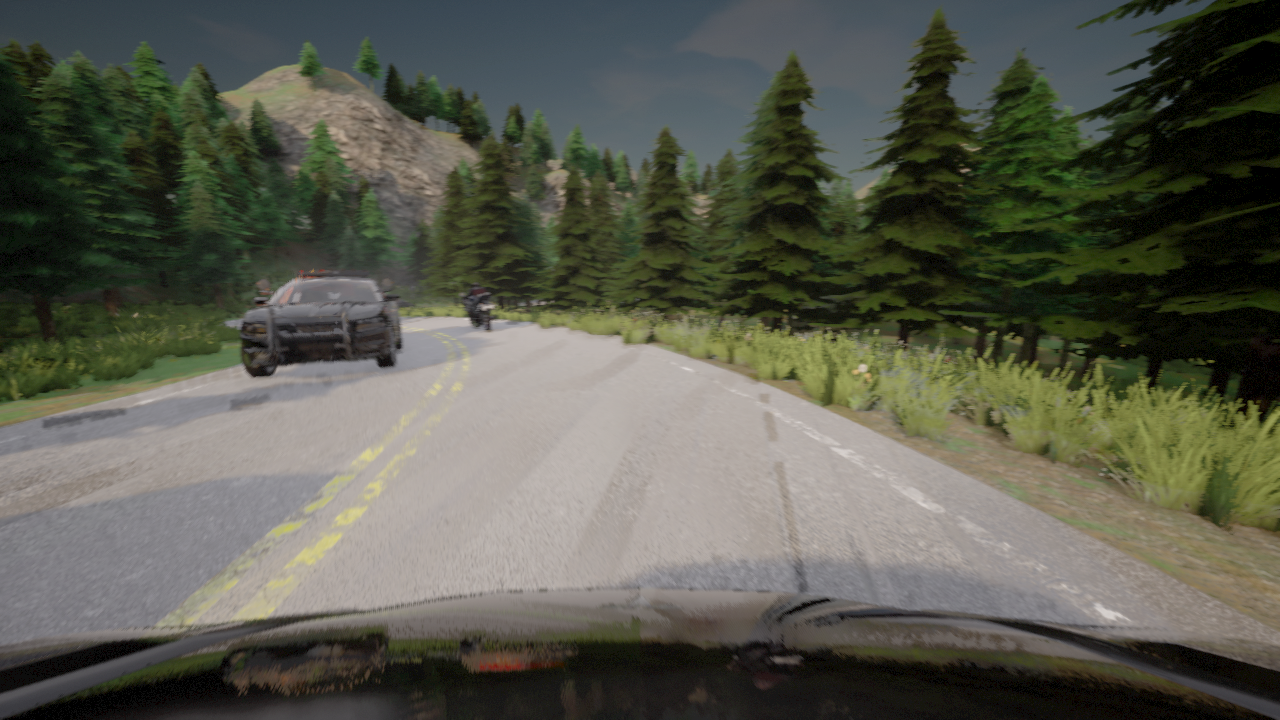cyclist: (0, 588, 1279, 719), (240, 268, 401, 377), (460, 293, 495, 330), (395, 298, 414, 307)
